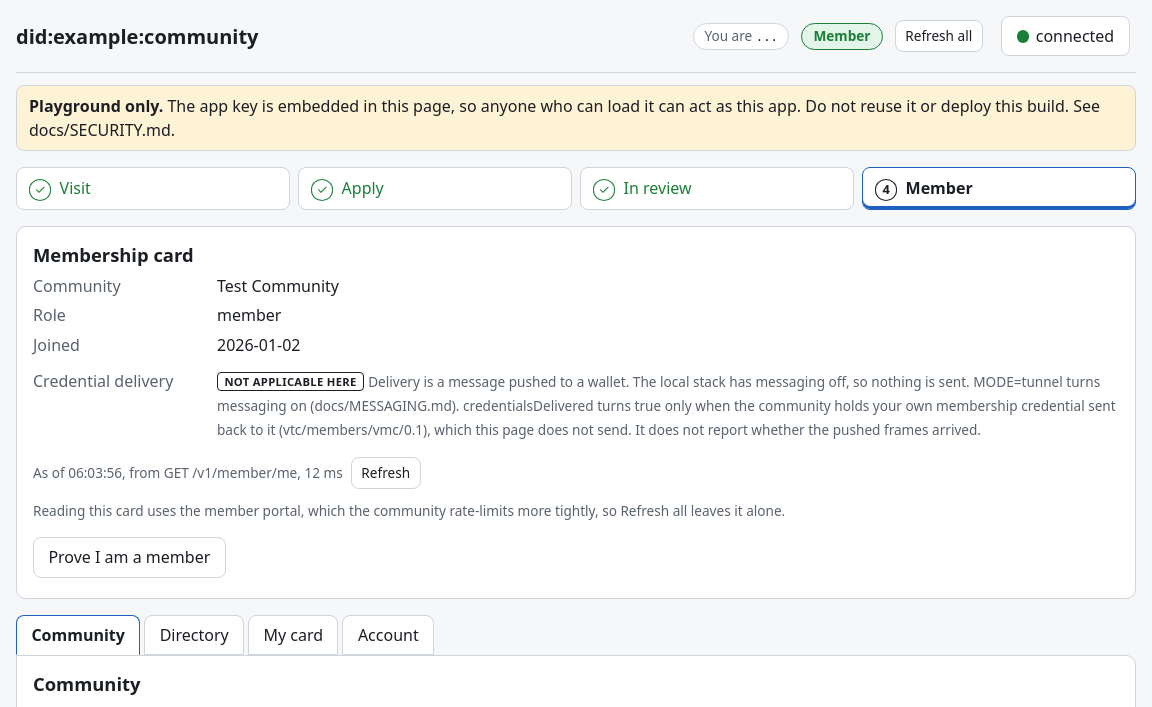
Test: cooldown › disables every Refresh for a moment after one, then re-enables (known signer 1 s)
Click the button "Refresh all" at (939, 36), box [895,20,983,52]
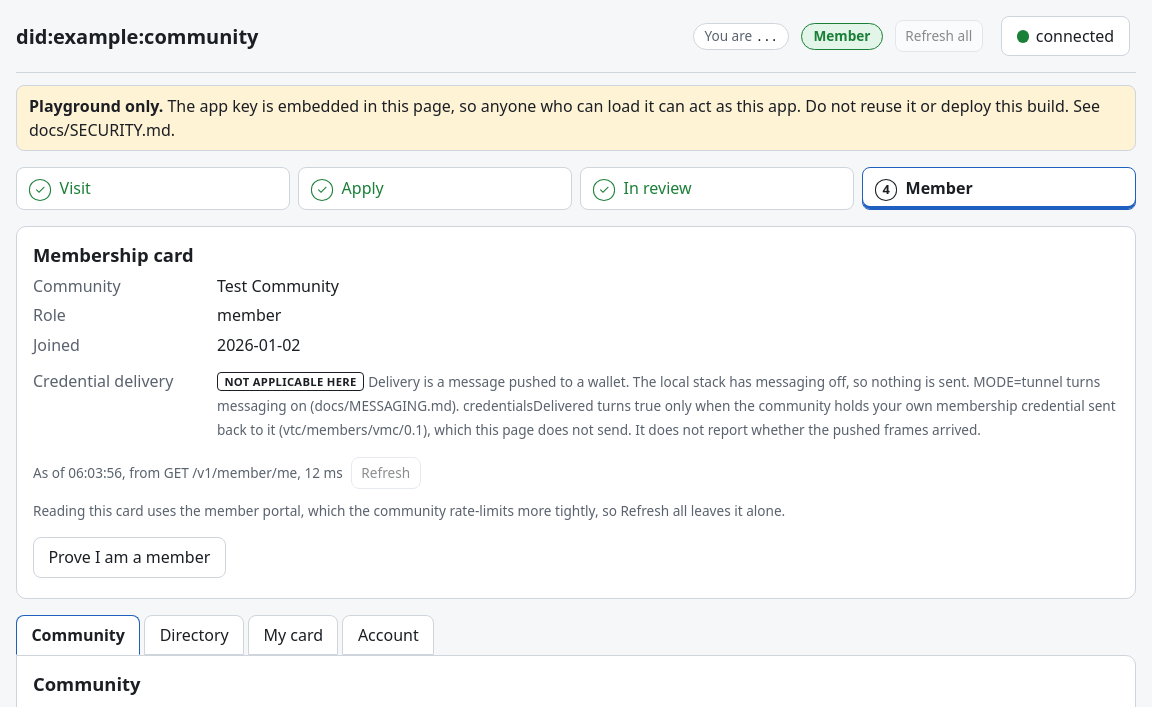
Expected: the button "Refresh all" is disabled
Expected: the button "Refresh" below "Credential delivery" is disabled, [351,457,421,489]
Click the button "Refresh all" at (939, 36), box [895,20,983,52]
Wait 1050 ms
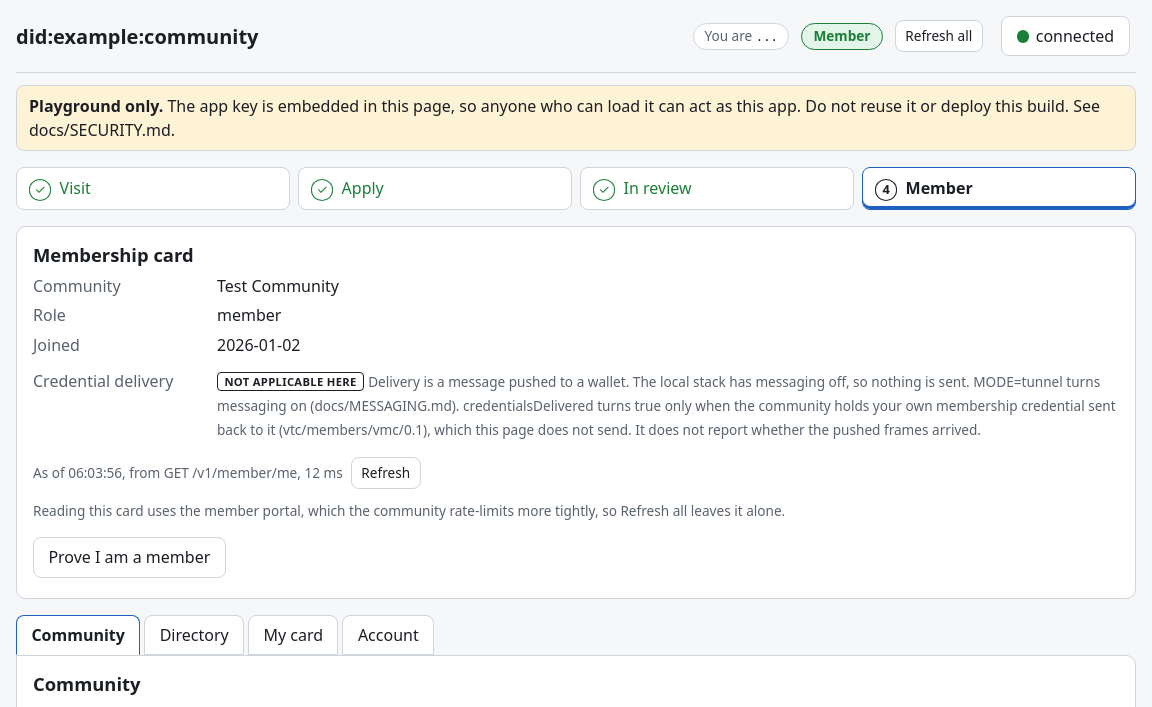
Expected: the button "Refresh all" is enabled, [895,20,983,52]
